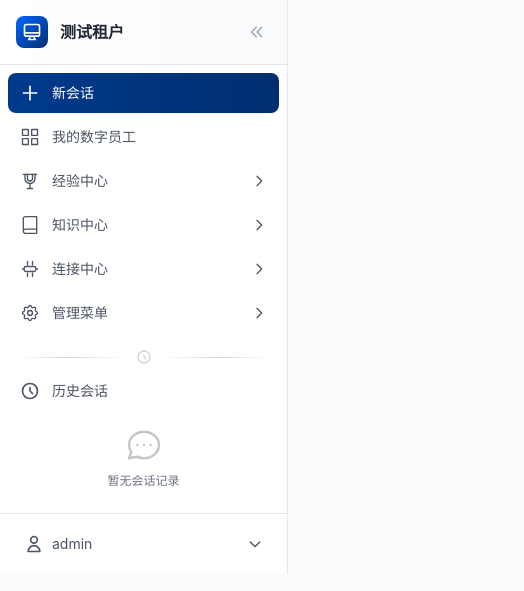
Test: MenuSidebar - flyout 二级菜单 › 办公软件会话：租户管理员且配置了办公渠道时可见
This screenshot has width=524, height=591.
Hover over the button "经验中心" at point(80, 180), box x1=8 y1=161 x2=279 y2=201
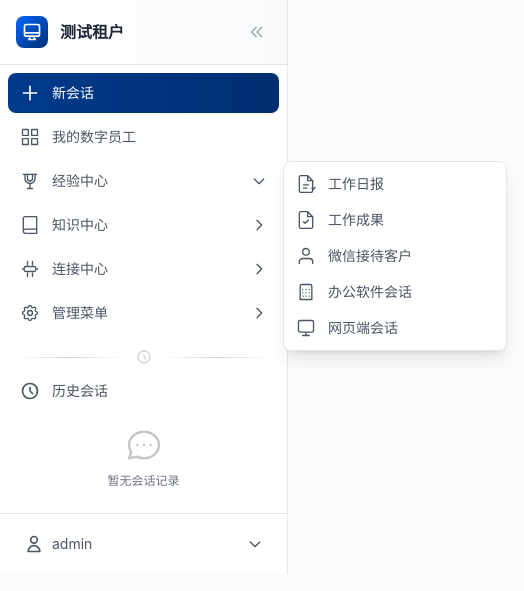
Now the element showing "工作日报 工作成果 微信接待客户 办公软件会话 网页端会话" is shown, box x1=283 y1=161 x2=507 y2=351
